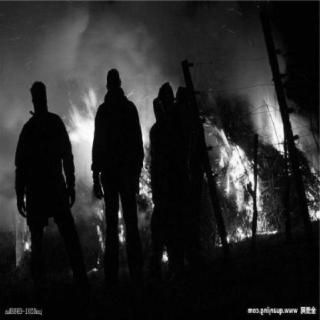Fire: (216, 101, 286, 227)
